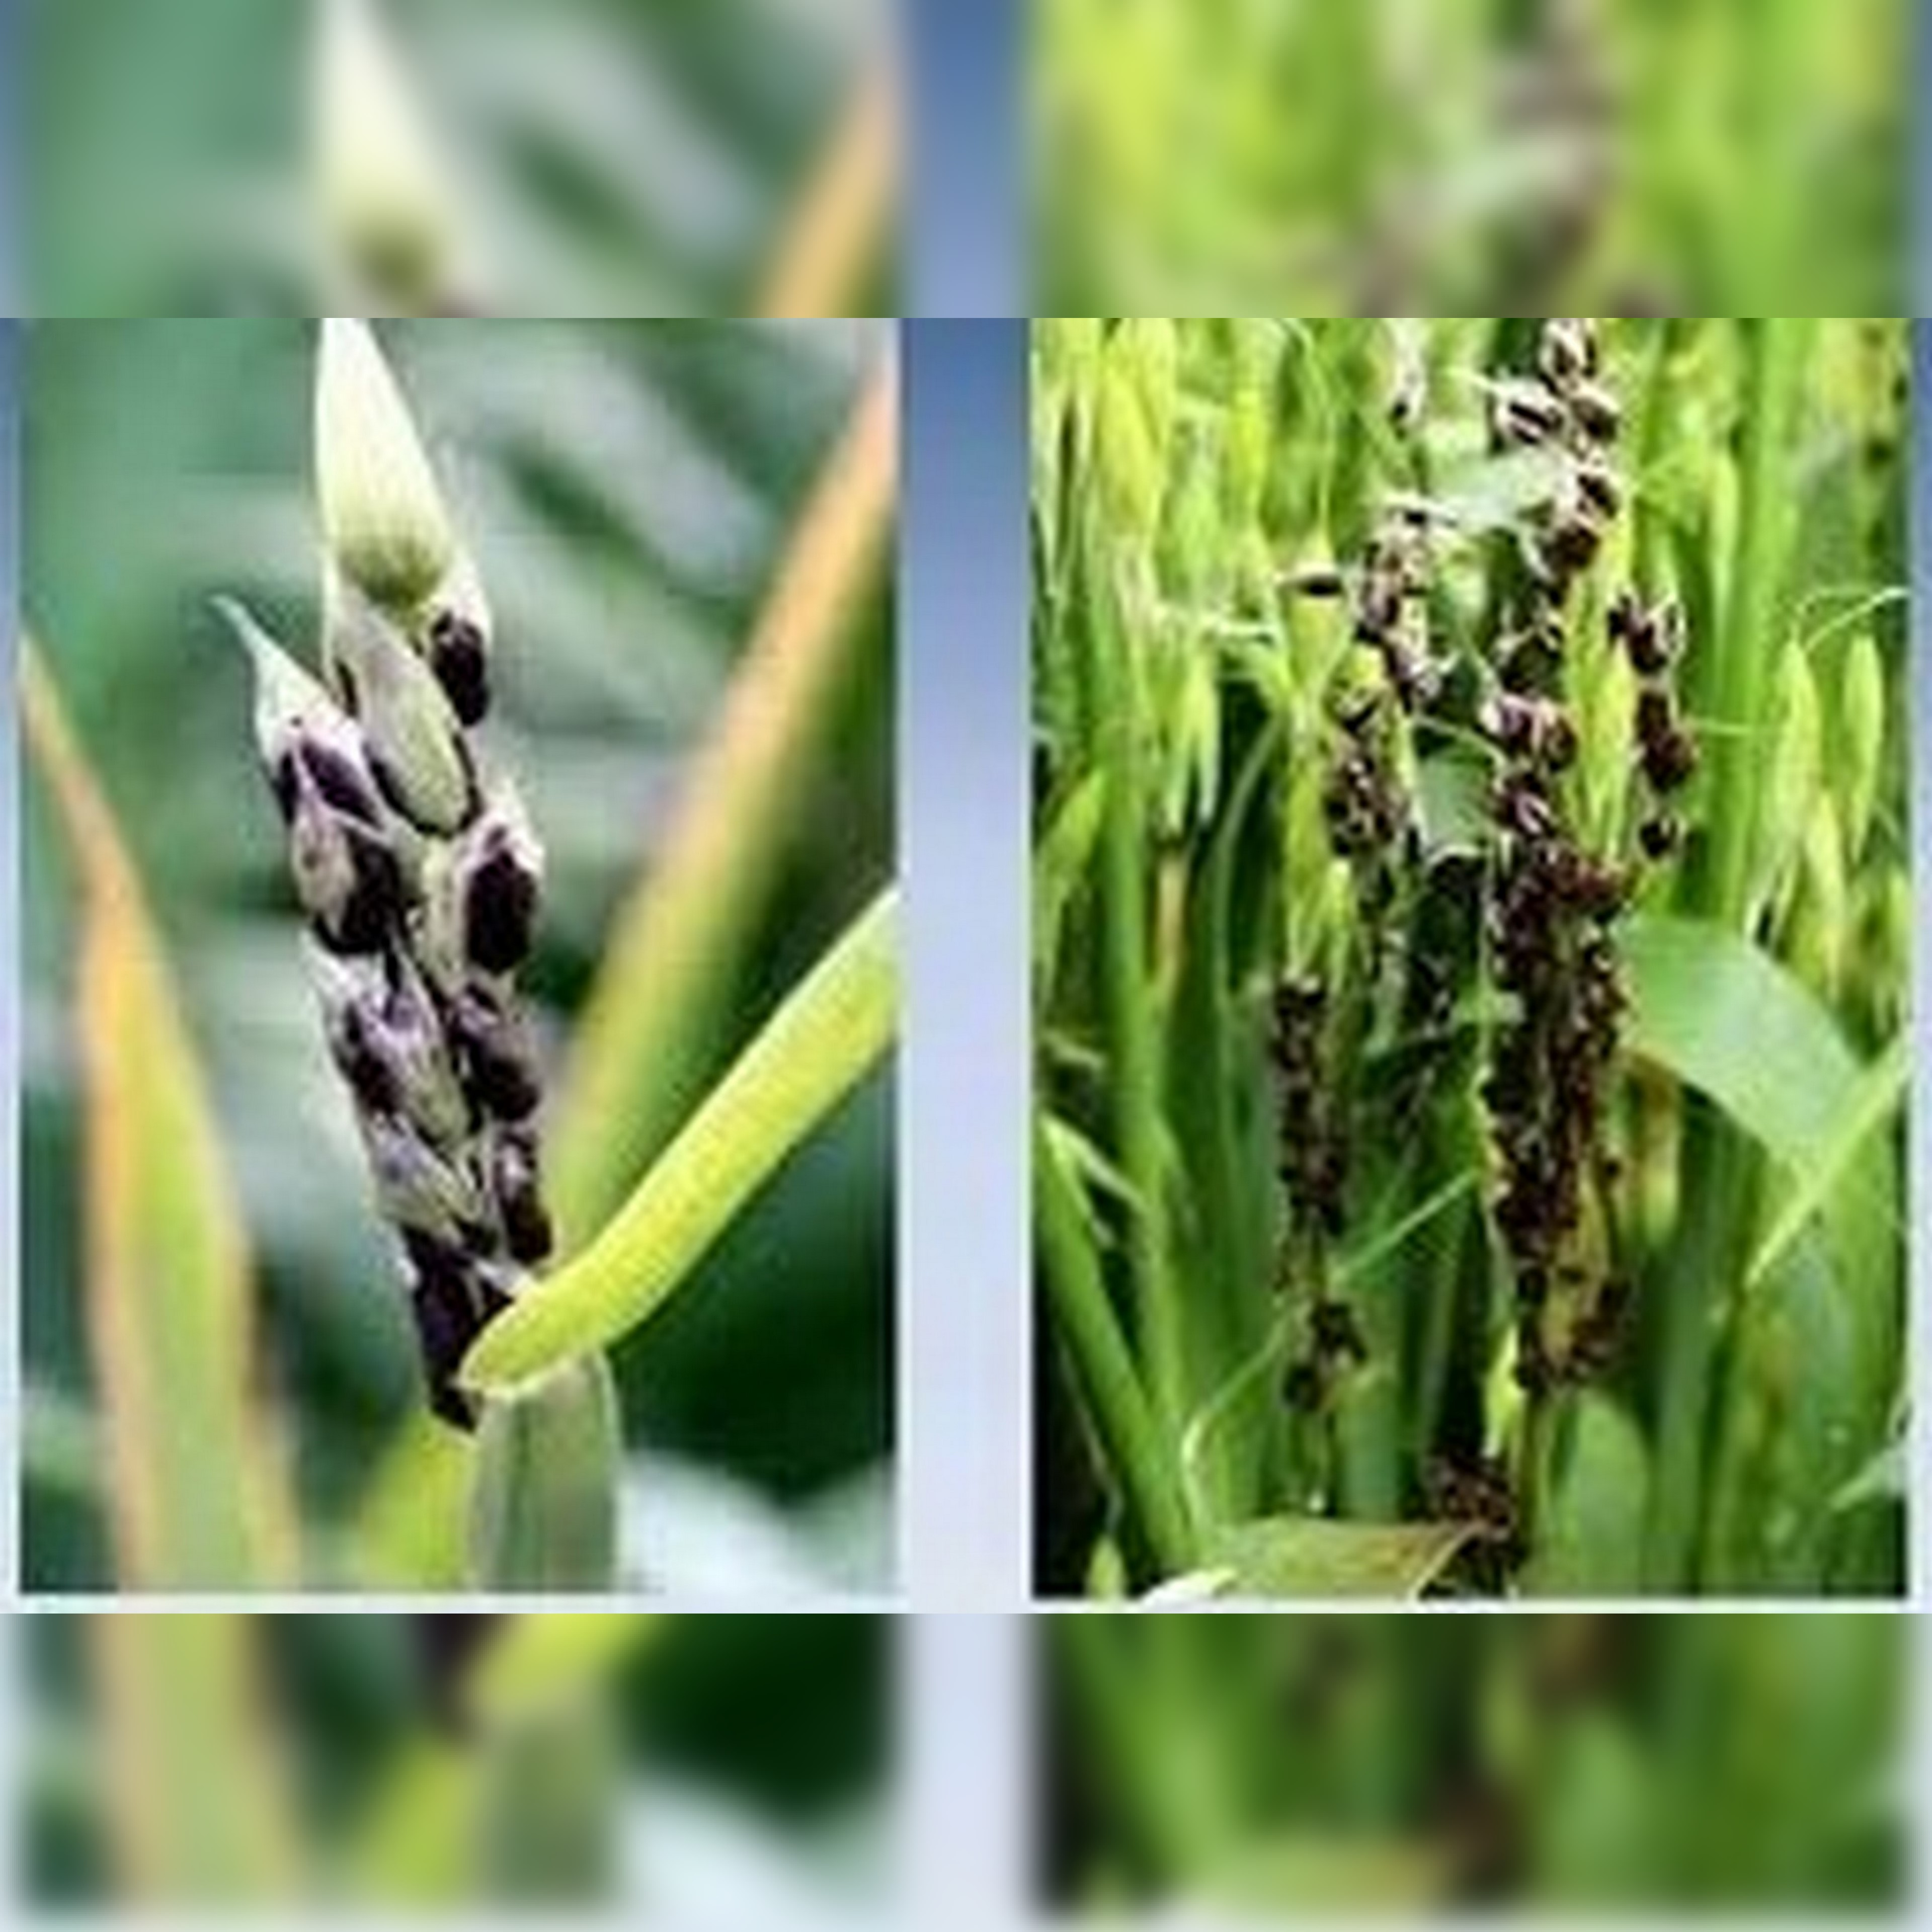Wheat Loose Smut: (1263, 389, 1693, 1362)
